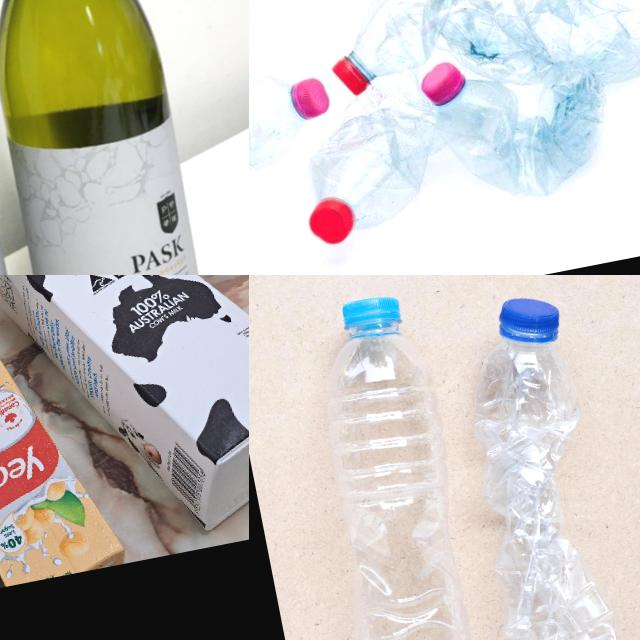caixinha: (0, 275, 249, 566), (0, 339, 127, 597)
garrafa de vidro: (0, 0, 216, 275)
garrafa plástica: (296, 316, 496, 640), (445, 328, 633, 640), (436, 55, 622, 212), (295, 66, 460, 236), (340, 0, 559, 121), (514, 0, 640, 96), (249, 32, 309, 194)
tampa plástica: (494, 290, 564, 344), (341, 290, 403, 332), (308, 197, 357, 246), (417, 58, 466, 105), (328, 51, 372, 100), (286, 74, 332, 120)
